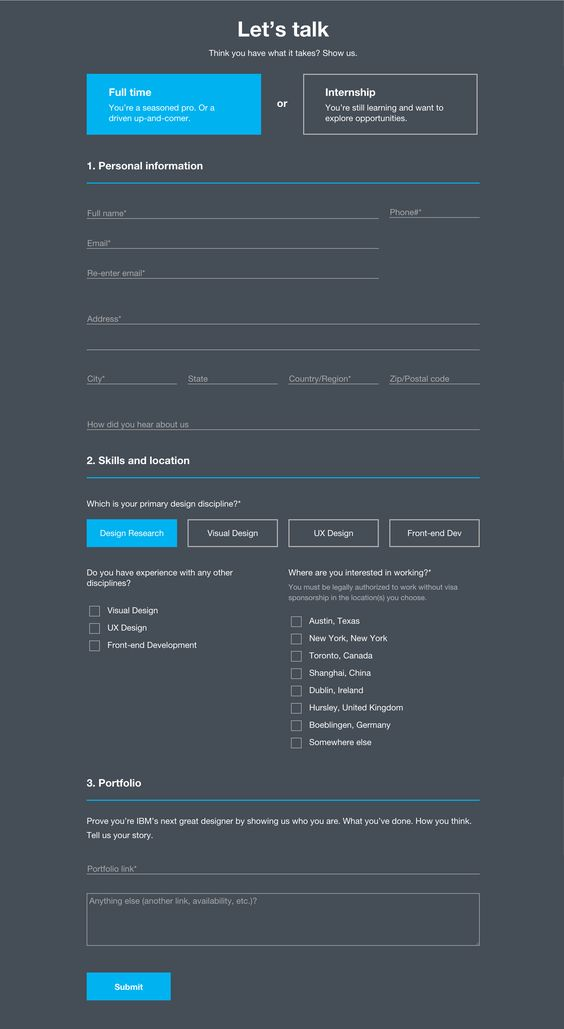_form_: (74, 141, 490, 557)
button: (84, 518, 179, 548), (186, 518, 278, 548), (286, 519, 380, 548), (388, 519, 481, 548), (84, 971, 172, 1001)
checkbox: (87, 621, 101, 634), (88, 638, 101, 652), (290, 719, 304, 732), (88, 604, 101, 617), (290, 701, 303, 714), (290, 614, 302, 628), (290, 649, 302, 663), (289, 685, 303, 697), (290, 667, 302, 680), (290, 736, 302, 749), (291, 633, 303, 644)
checkbox_with_label: (288, 701, 405, 716), (87, 638, 196, 654), (288, 717, 390, 733), (287, 631, 389, 646), (287, 648, 374, 665), (289, 735, 371, 752), (289, 666, 373, 682), (288, 612, 363, 628), (289, 684, 362, 700), (85, 619, 149, 637), (86, 603, 159, 618)
field: (84, 891, 481, 947)
field_line: (85, 415, 481, 432), (84, 862, 481, 877), (85, 314, 481, 328), (84, 266, 382, 281), (84, 237, 381, 251), (84, 207, 380, 221), (84, 370, 179, 386), (186, 370, 280, 386), (286, 370, 380, 386), (388, 370, 481, 386), (388, 206, 480, 219)
